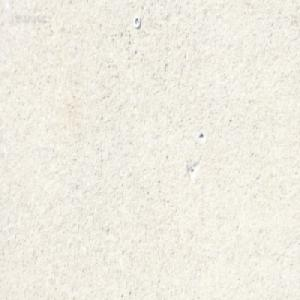Washer: (133, 16, 140, 30)
